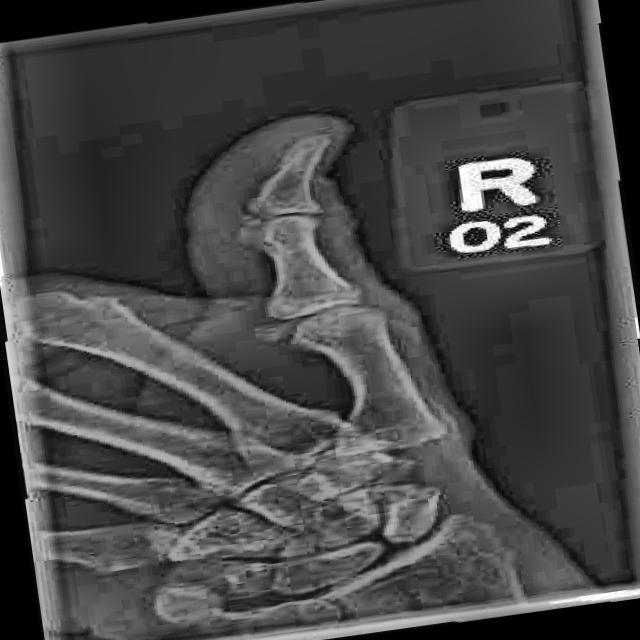fingers positive: (265, 127, 346, 177)
